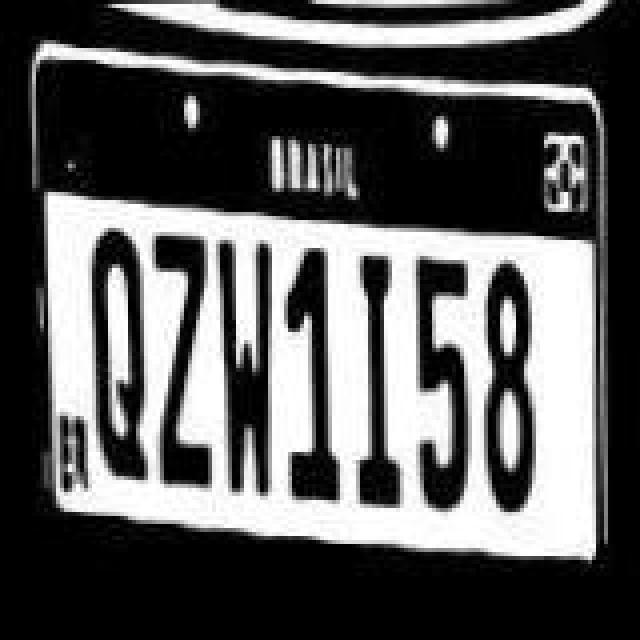1: (280, 234, 344, 510)
5: (408, 246, 476, 518)
8: (480, 256, 540, 520)
I: (354, 244, 402, 516)
Q: (84, 228, 148, 492)
W: (218, 236, 278, 496)
Z: (150, 216, 218, 492)
